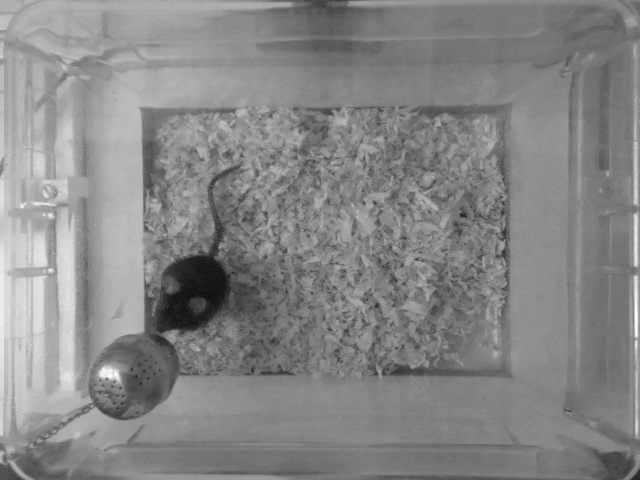mice: (152, 159, 246, 336)
